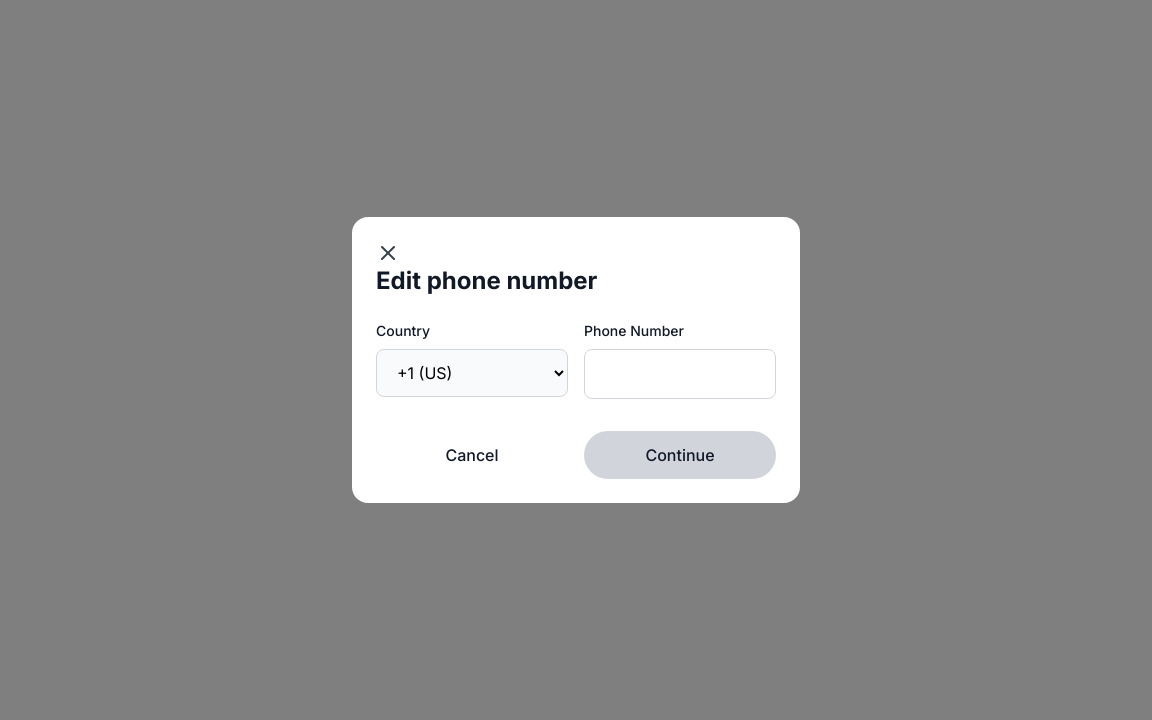
Scenario: EditPhoneModal › should clear error when user types after error
The width and height of the screenshot is (1152, 720).
# Trigger error
Step 1. Type "123" into the field labelled "Phone Number" → coordinates (680, 374), box [584,349,776,399]
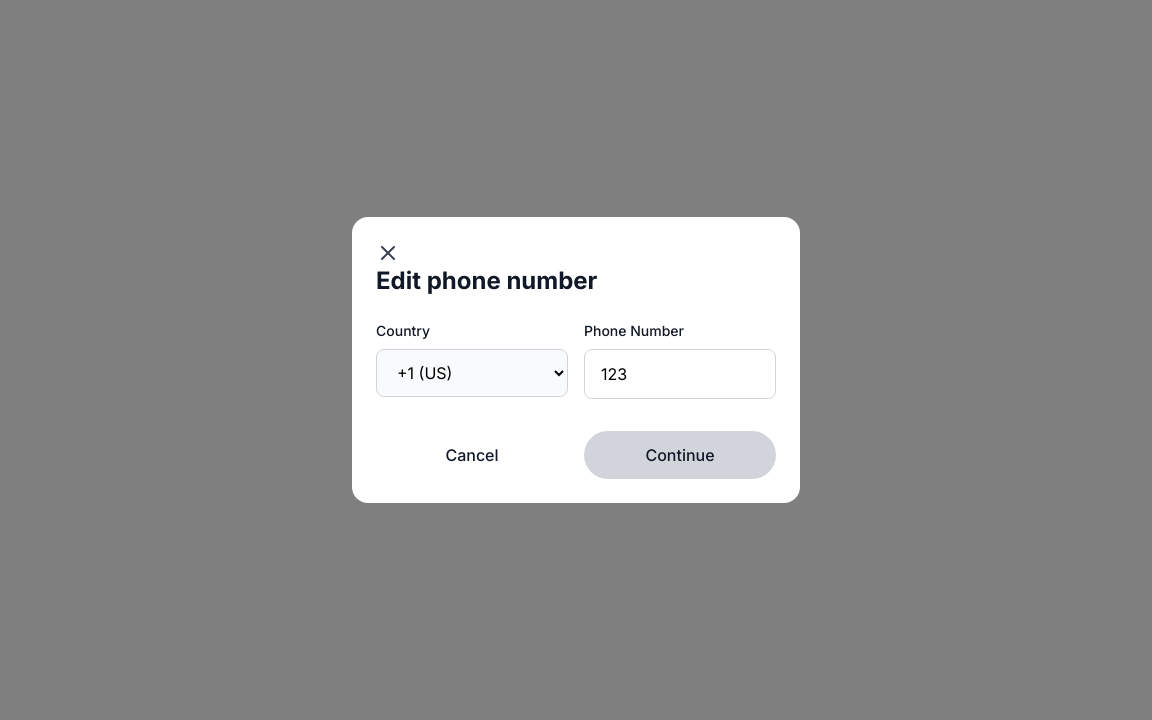
Step 2. Click the button "Continue" → coordinates (680, 455), box [584,431,776,479]
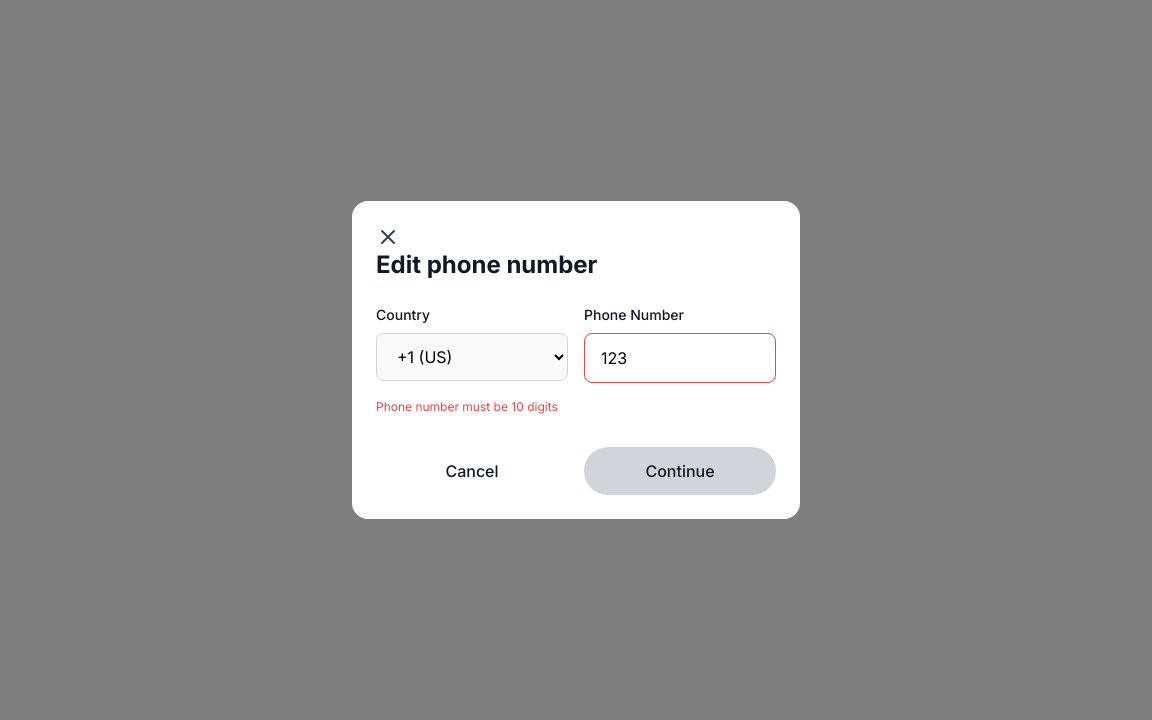
Expected: the text "Phone number must be 10 digits" is shown, [376,399,558,414]
# Type again - error should clear
Step 3. Replace the text in the field labelled "Phone Number" with "1234" → coordinates (680, 358), box [584,333,776,383]
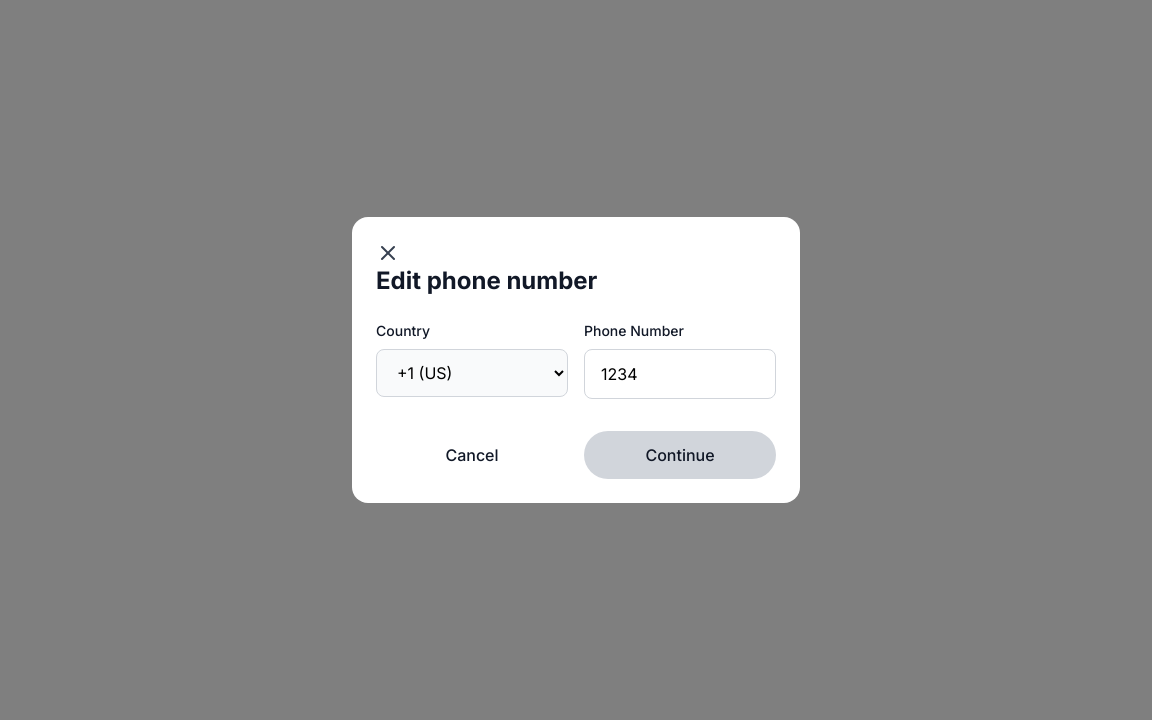
Expected: the text "Phone number must be 10 digits" is gone
